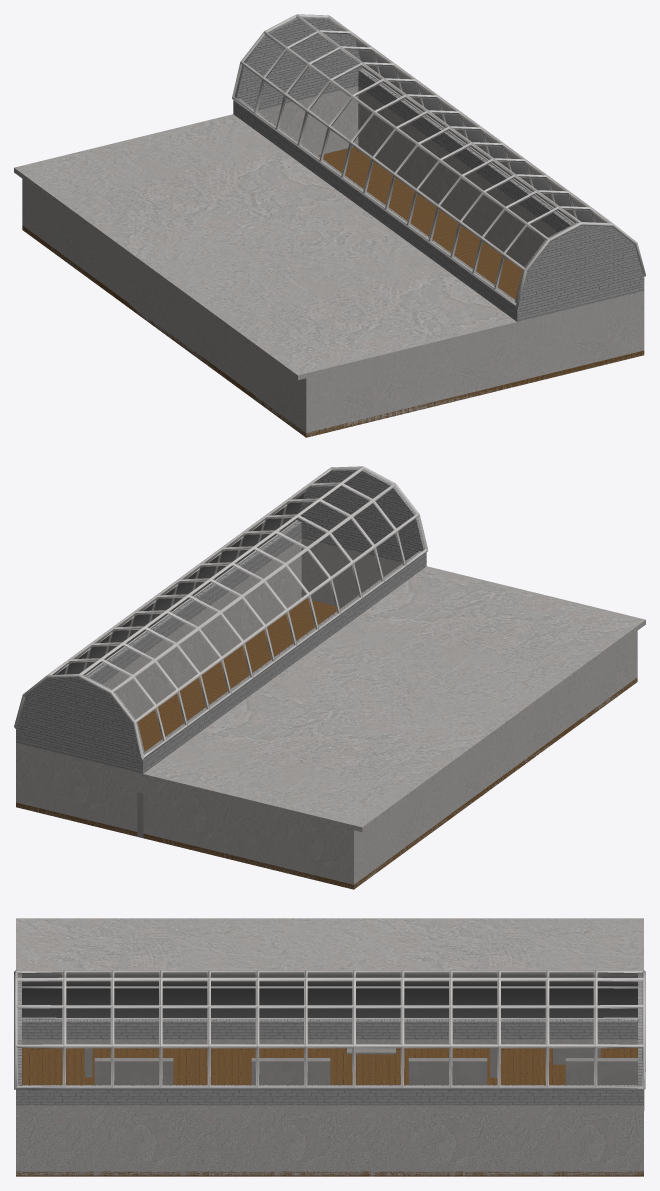
File: pictures.glb
3 views of the same model, one above another, from view 1: azimuth 30°, elevation 25°; view 2: azimuth 150°, elevation 25°; view 3: azimuth 270°, elevation 25° (orthographic). The views are drawn at different scales.
Visible parts, largest first — view 1: render_roof, render_walls, render_dome, render_border_dome, render_side_dome, render_floor, render_glass_dome; view 2: render_roof, render_walls, render_dome, render_border_dome, render_side_dome, render_floor, render_glass_dome; view 3: render_walls, render_roof, render_border_dome, render_dome, render_glass_dome, render_floor, render_interior_wall_2, render_interior_wall_4, render_interior_wall_3, render_interior_wall_1, render_side_dome, render_interior_wall_0.
Part boxes in pixels (bbox=[...]): render_roof: bbox=[14, 114, 516, 380]; render_walls: bbox=[22, 86, 644, 436]; render_dome: bbox=[232, 14, 645, 307]; render_border_dome: bbox=[233, 69, 644, 321]; render_side_dome: bbox=[234, 16, 642, 305]; render_floor: bbox=[22, 147, 644, 437]; render_glass_dome: bbox=[355, 40, 603, 223]; render_roof: bbox=[138, 566, 645, 831]; render_walls: bbox=[16, 538, 637, 888]; render_dome: bbox=[14, 466, 427, 759]; render_border_dome: bbox=[16, 521, 426, 773]; render_side_dome: bbox=[17, 468, 425, 757]; render_floor: bbox=[16, 599, 637, 889]; render_glass_dome: bbox=[56, 493, 304, 674]; render_walls: bbox=[16, 923, 643, 1176]; render_roof: bbox=[16, 918, 643, 1044]; render_border_dome: bbox=[16, 1019, 643, 1105]; render_dome: bbox=[14, 970, 645, 1089]; render_glass_dome: bbox=[22, 974, 637, 1017]; render_floor: bbox=[16, 1048, 643, 1176]; render_interior_wall_2: bbox=[408, 1058, 487, 1084]; render_interior_wall_4: bbox=[94, 1058, 173, 1084]; render_interior_wall_3: bbox=[251, 1058, 330, 1084]; render_interior_wall_1: bbox=[565, 1058, 644, 1110]; render_side_dome: bbox=[17, 972, 642, 1086]; render_interior_wall_0: bbox=[553, 1048, 600, 1064].
Bounding box in the file's own units: 22.65 × 9.24 × 32.2.
6 materials, 4 textured.
